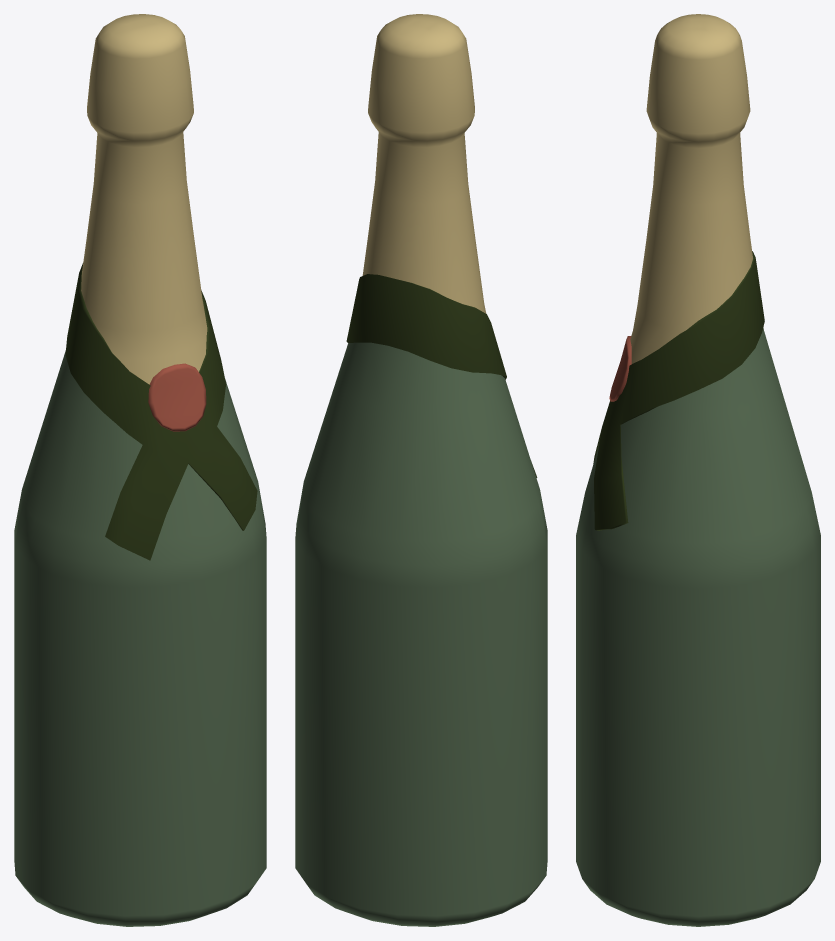
The model's file is champagne.fbx.
3 renders of one model, left to right at view 1: azimuth 30°, elevation 25°; view 2: azimuth 150°, elevation 25°; view 3: azimuth 270°, elevation 25°, orthographic.
Visible parts, largest first — view 1: pCylinder3, pCylinder1, pCylinder2, pCube1; view 2: pCylinder3, pCylinder1, pCylinder2; view 3: pCylinder3, pCylinder1, pCylinder2, pCube1.
Part boxes in pixels (box(x1,y1,x2,y2)): pCylinder3: box(14, 350, 266, 926); pCylinder1: box(81, 14, 207, 384); pCylinder2: box(65, 263, 257, 560); pCube1: box(148, 363, 206, 431); pCylinder3: box(295, 342, 547, 926); pCylinder1: box(362, 14, 486, 313); pCylinder2: box(346, 274, 537, 477); pCylinder3: box(576, 328, 820, 926); pCylinder1: box(630, 14, 752, 363); pCylinder2: box(593, 251, 764, 530); pCube1: box(609, 336, 631, 401).
Size of the model in its own units: 2.1 by 7.75 by 2.
